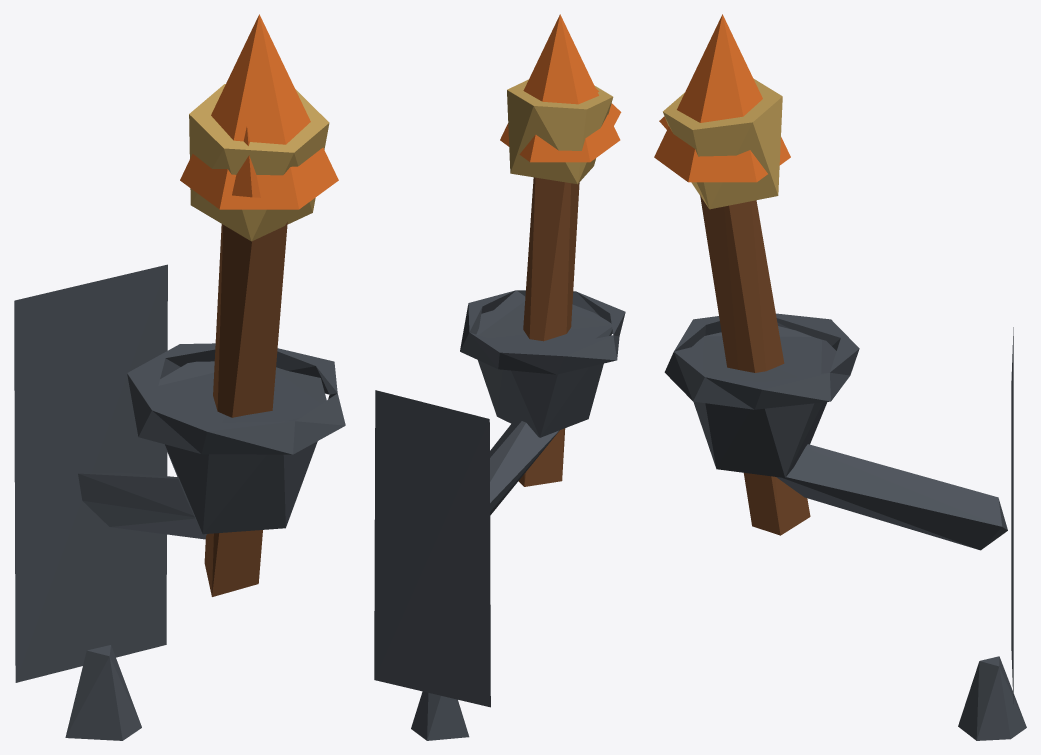
Rendered from wall_sconce_lod1.obj.
3 views of the same model, side by side, from view 1: azimuth 30°, elevation 25°; view 2: azimuth 150°, elevation 25°; view 3: azimuth 270°, elevation 25° (orthographic). The views are drawn at different scales.
Parts seen in each view (by area): view 1: wall_sconce_lod1; view 2: wall_sconce_lod1; view 3: wall_sconce_lod1.
Boxes of the visible parts, x1=… form: wall_sconce_lod1: x1=14, y1=14, x2=345, y2=740; wall_sconce_lod1: x1=374, y1=14, x2=625, y2=740; wall_sconce_lod1: x1=654, y1=14, x2=1026, y2=740.
Size of the model in its own units: 0.148 by 0.5983 by 0.2829.
